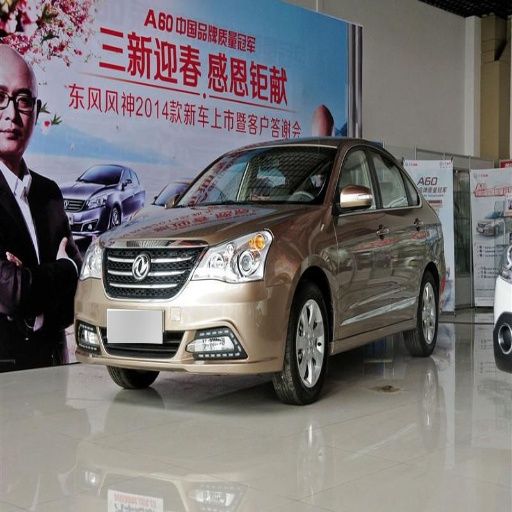front_bumper: (72, 241, 293, 382)
front_glass: (153, 146, 335, 204)
front_left_door: (333, 143, 394, 338)
